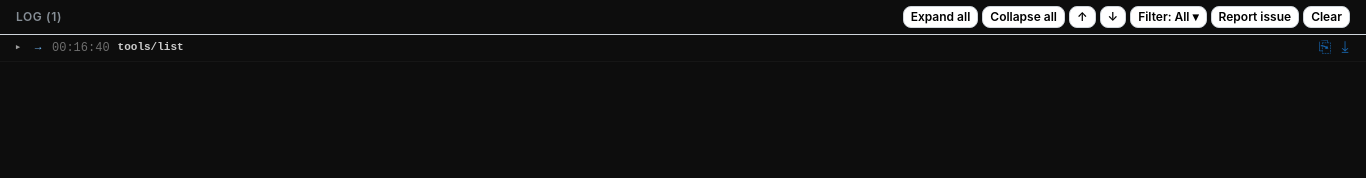
Test: LogPanel — DEC-012 › toggles the body when the headline is clicked
The image size is (1366, 178).
Step 1. Click the button "▸ → 00:16:40 tools/list" → (99, 48), box [15,41,184,55]
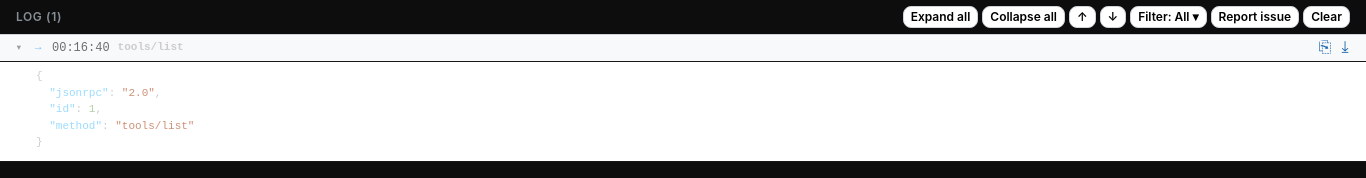
Check: the element named "message 1" is shown, box [36,70,194,148]
